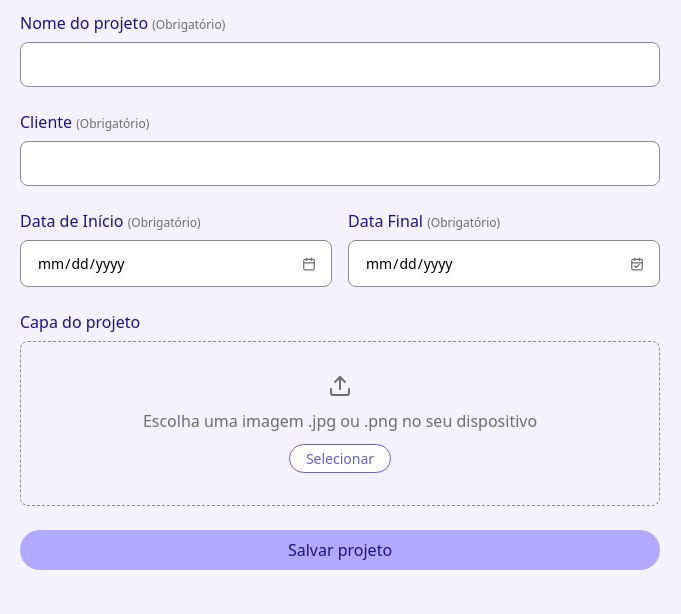
Scenario: ProjectForm › mostra o erro de um campo ao sair dele, mesmo antes do submit
In the field labelled "Nome do projeto (Obrigatório)": point(340, 64) [20,42,660,87], type "Só"
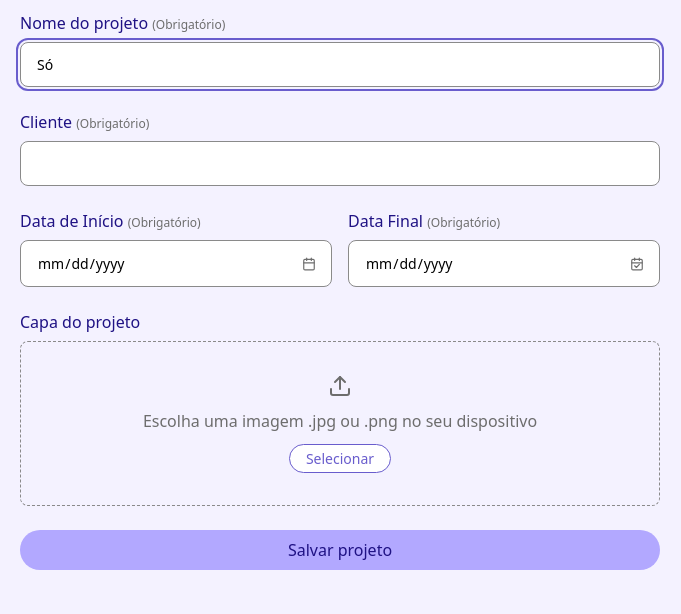
Press Tab
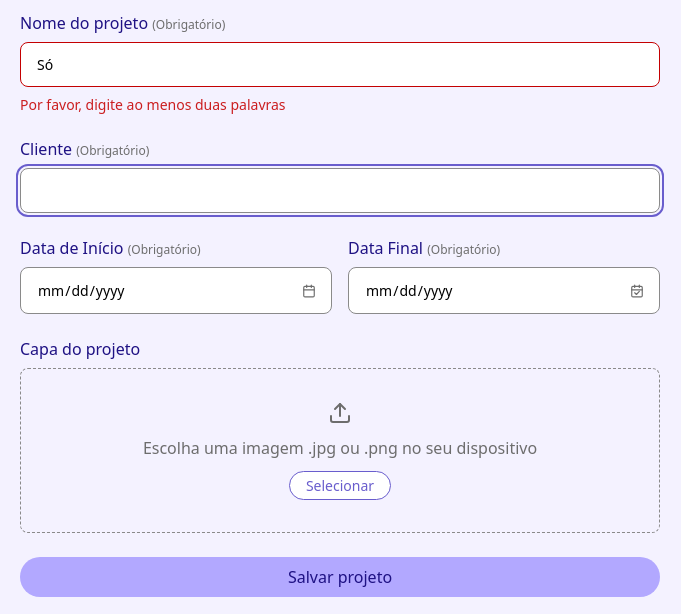
Now the text "Por favor, digite ao menos duas palavras" is shown, box [20,95,286,114]
